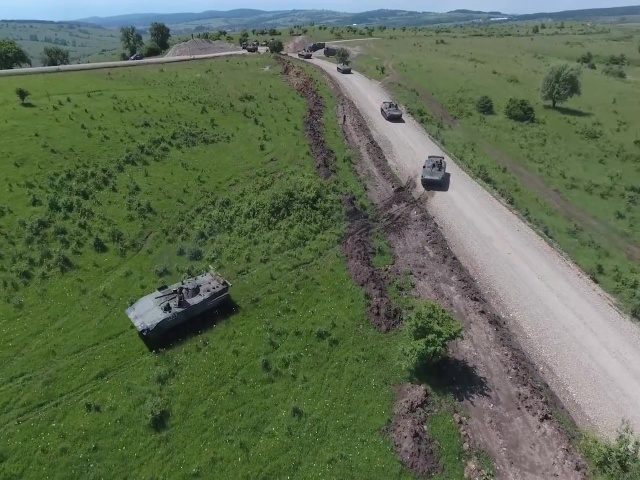vehicle: (123, 265, 233, 338), (421, 154, 448, 191), (380, 99, 403, 122), (335, 61, 352, 75), (298, 48, 312, 59)
